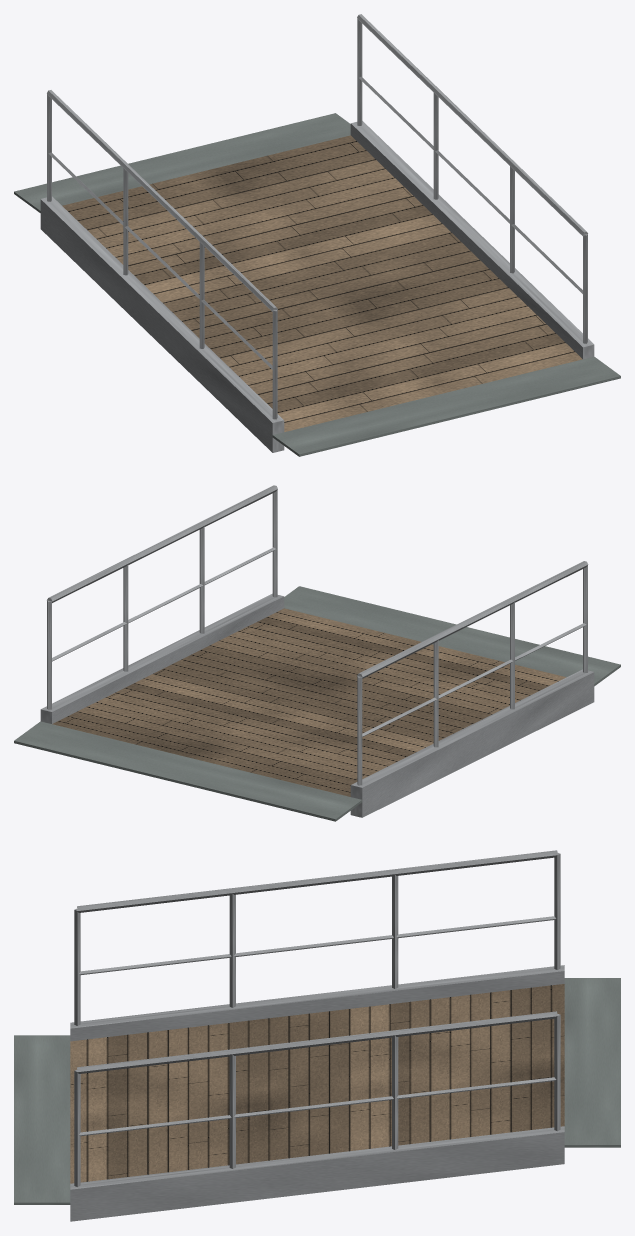
The model's file is SM_Morin_Marina_Passerella.fbx.
The picture shows the model from 3 angles, top to bottom: view 1: azimuth 30°, elevation 25°; view 2: azimuth 150°, elevation 25°; view 3: azimuth 270°, elevation 25°; orthographic projection. The views are drawn at different scales.
Visible parts, largest first — view 1: SM_Morin_Marina_Passerella; view 2: SM_Morin_Marina_Passerella; view 3: SM_Morin_Marina_Passerella.
Part boxes in pixels (x1,y1,x2,y2): SM_Morin_Marina_Passerella: (14,14,620,456); SM_Morin_Marina_Passerella: (14,485,620,821); SM_Morin_Marina_Passerella: (14,850,620,1221).
Size of what is drawn, in the model's own units: 280 by 430 by 162.
Materials: 2 (2 with a texture image).
